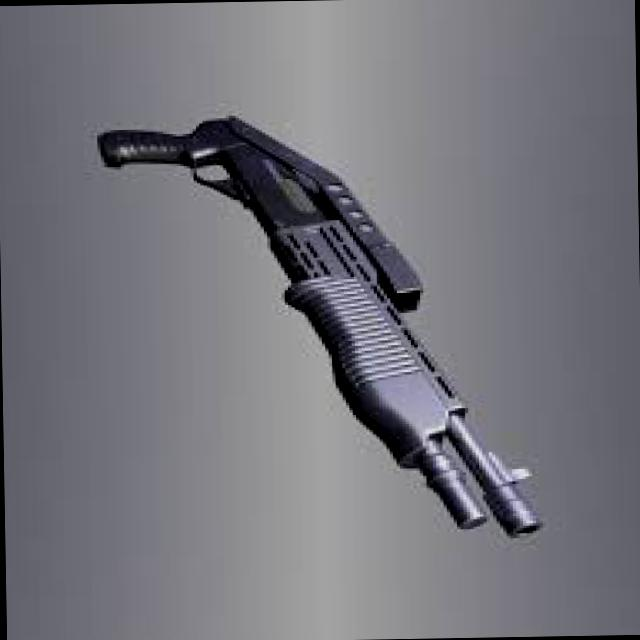long weapon: (74, 80, 563, 544)
